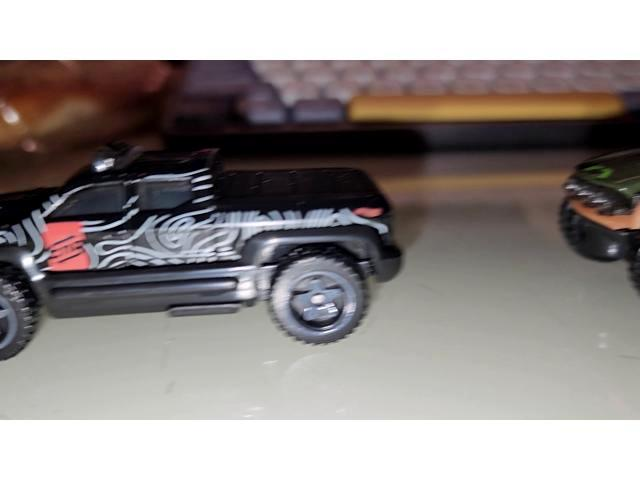toy-car: (0, 144, 404, 361), (558, 144, 640, 298)
